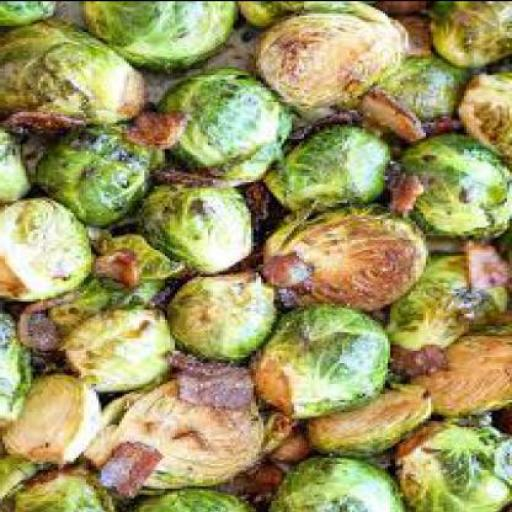biodegradable: (1, 1, 511, 511), (88, 383, 266, 491), (266, 200, 433, 310), (2, 16, 152, 130), (253, 298, 393, 417), (165, 65, 299, 181), (259, 8, 406, 109), (38, 117, 163, 224), (392, 128, 510, 236), (390, 246, 511, 348), (271, 117, 396, 212), (410, 300, 511, 412), (398, 411, 512, 510), (144, 171, 256, 270), (61, 302, 183, 387), (3, 368, 107, 466), (86, 2, 245, 66), (2, 193, 98, 298), (173, 270, 284, 356), (312, 380, 434, 453), (268, 452, 414, 510), (380, 48, 491, 122), (15, 455, 119, 510), (165, 350, 256, 408), (430, 2, 510, 66), (89, 230, 187, 282), (462, 63, 510, 161), (241, 0, 403, 27), (2, 302, 36, 428), (124, 481, 264, 510), (98, 442, 165, 500), (14, 296, 84, 345), (2, 102, 88, 140), (367, 86, 424, 142), (2, 123, 40, 206), (124, 105, 188, 152), (230, 451, 287, 502), (89, 274, 172, 306), (464, 234, 511, 288), (390, 337, 459, 372), (288, 105, 370, 134), (2, 449, 40, 510), (392, 6, 436, 58), (243, 174, 279, 232), (388, 162, 426, 216), (154, 161, 236, 185), (259, 411, 299, 453), (2, 0, 64, 27), (272, 424, 314, 460), (418, 108, 464, 138), (380, 0, 428, 15)
